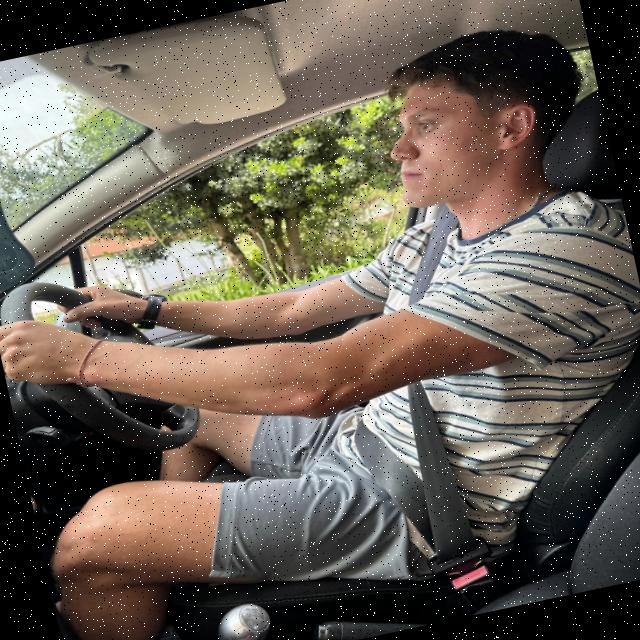Seatbelt: (308, 198, 532, 589)
